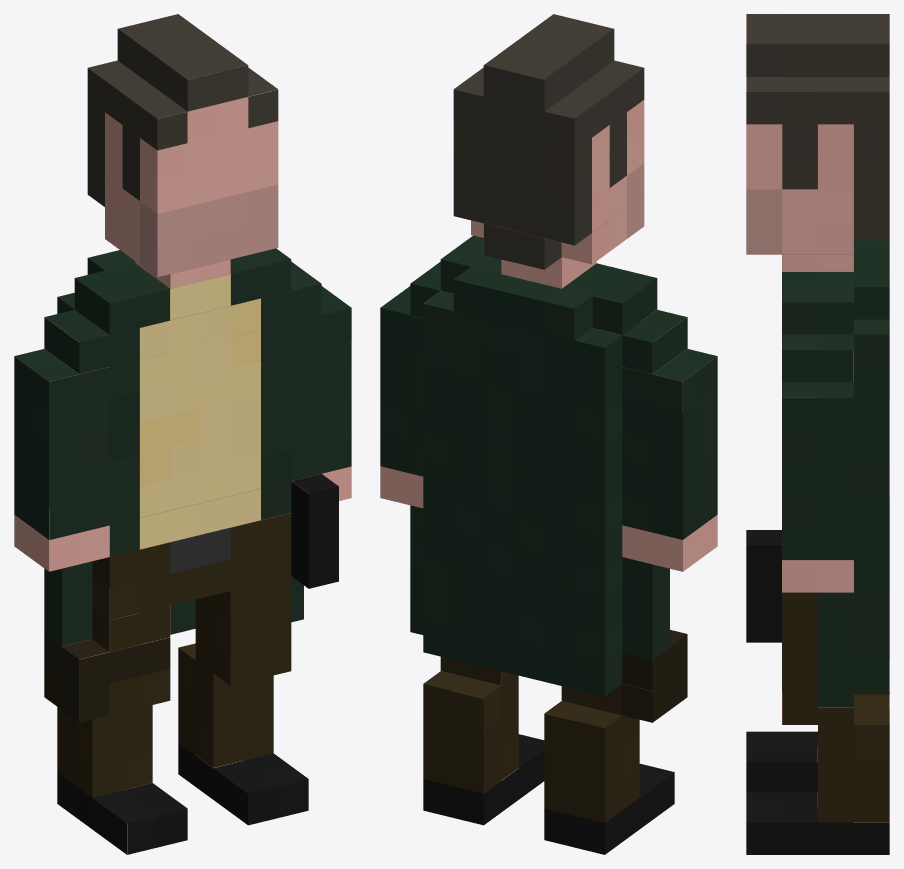
File: MainCharacter.fbx
3 renders of one model, left to right at view 1: azimuth 30°, elevation 25°; view 2: azimuth 150°, elevation 25°; view 3: azimuth 270°, elevation 25°, orthographic. The views are drawn at different scales.
Visible parts, largest first — view 1: Matrix_2; view 2: Matrix_2; view 3: Matrix_2.
Part boxes in pixels (box(x1,y1,x2,y2)): Matrix_2: box(14, 14, 351, 854); Matrix_2: box(380, 14, 717, 854); Matrix_2: box(746, 14, 889, 854).
Size of the model in its own units: 10 by 24 by 4.
